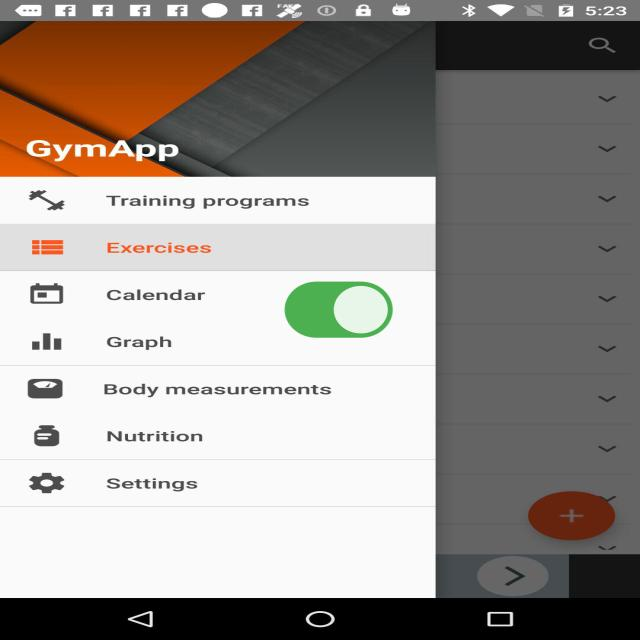social proof: (280, 260, 398, 364)
